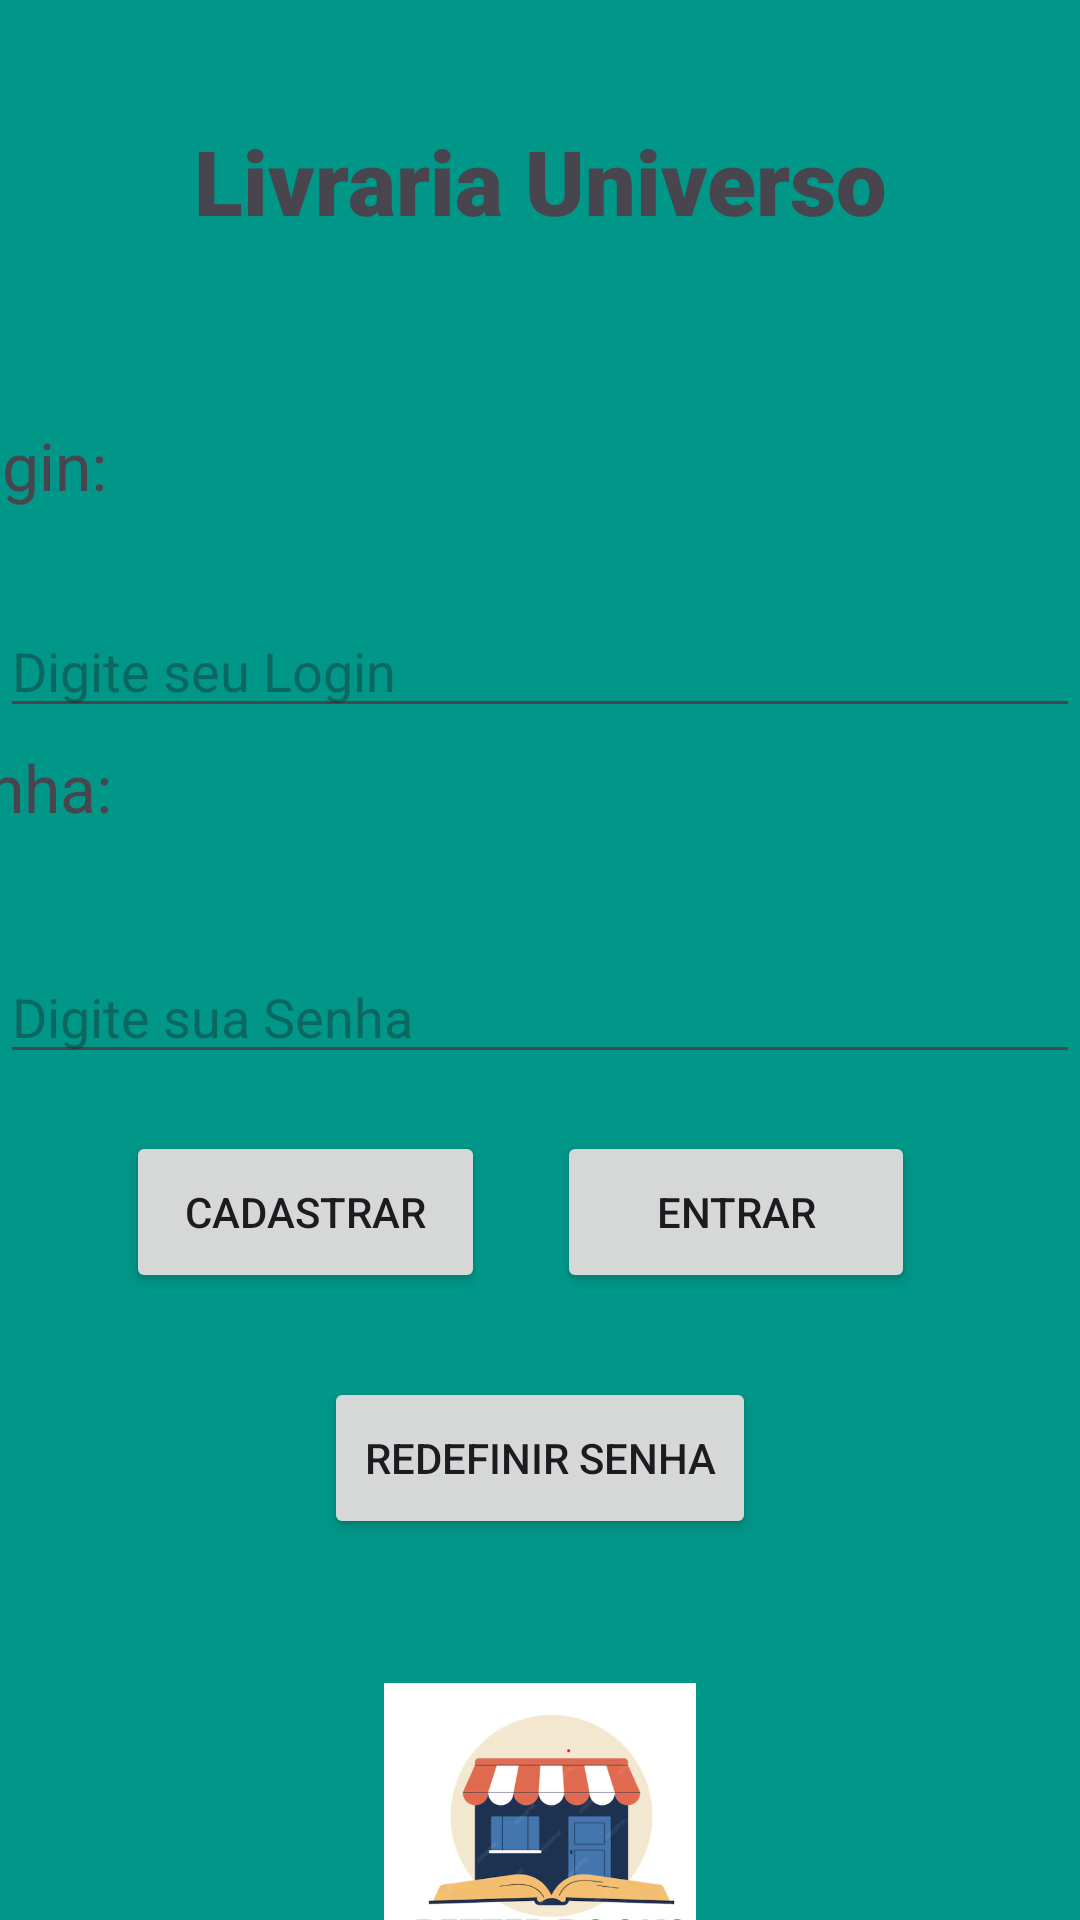

Named icons in this screenshot (1080 x 1920) and their centers, (x=x, y=y):
livraria: (x=540, y=1801)
